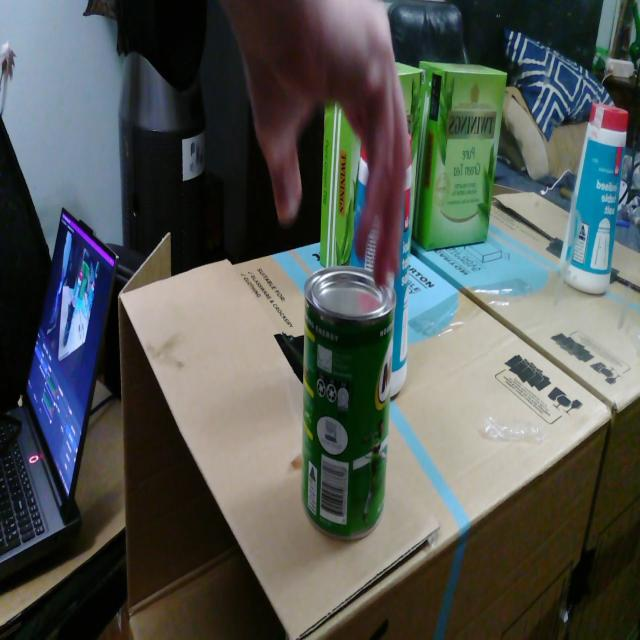nestle_milo_tin: (302, 266, 396, 539)
twinings_greentea_box: (320, 103, 361, 267), (395, 62, 425, 218)
woolworths_salt_bottle: (387, 134, 412, 397), (350, 145, 379, 271)
